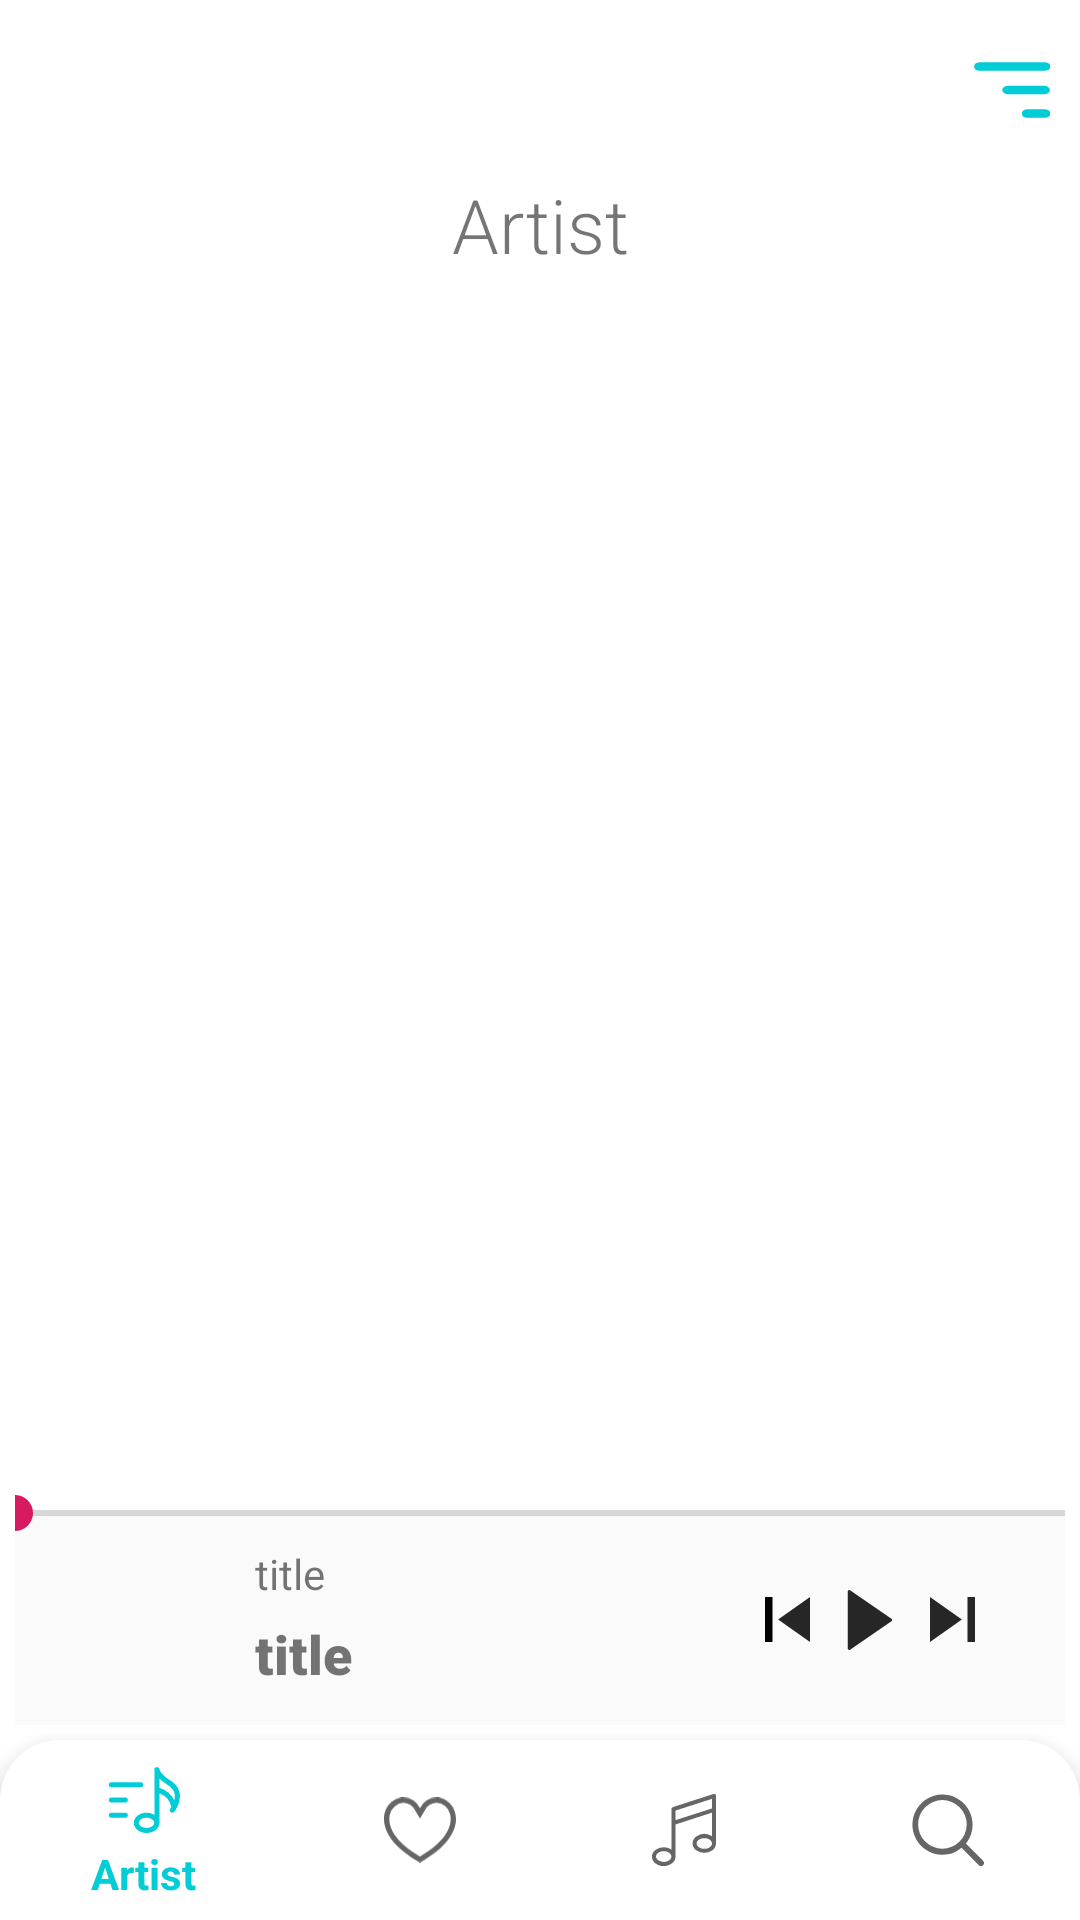

Named icons in this screenshot (1080 x 1920) and their centers, point (x, y):
next: point (952, 1619)
play: point (869, 1620)
prev: point (787, 1619)
